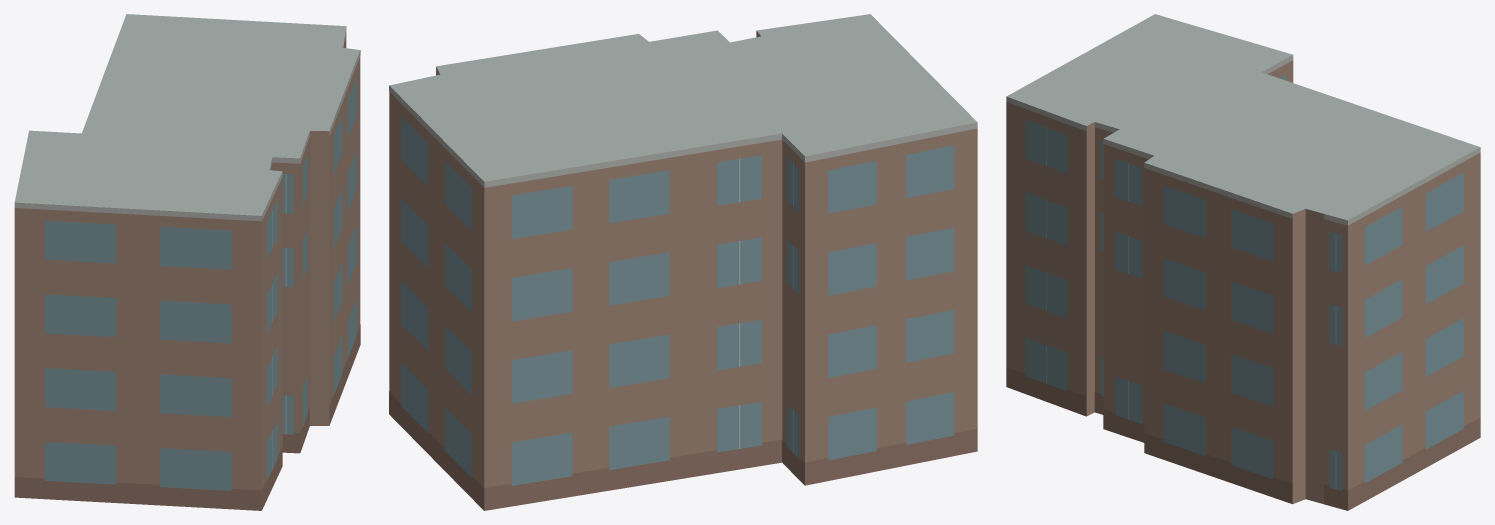
File: survey-upis-32600618.glb
The picture shows the model from 3 angles, left to right: view 1: azimuth 30°, elevation 25°; view 2: azimuth 150°, elevation 25°; view 3: azimuth 270°, elevation 25°; orthographic projection. The views are drawn at different scales.
Visible parts, largest first — view 1: survey-upis-32600618.tmp; view 2: survey-upis-32600618.tmp; view 3: survey-upis-32600618.tmp.
Boxes of the visible parts, x1,y1,x2,y2 form: survey-upis-32600618.tmp: (14,14,360,510); survey-upis-32600618.tmp: (389,14,977,510); survey-upis-32600618.tmp: (1006,14,1480,510).
Size of the model in its own units: 20.43 by 13.4 by 19.84.
